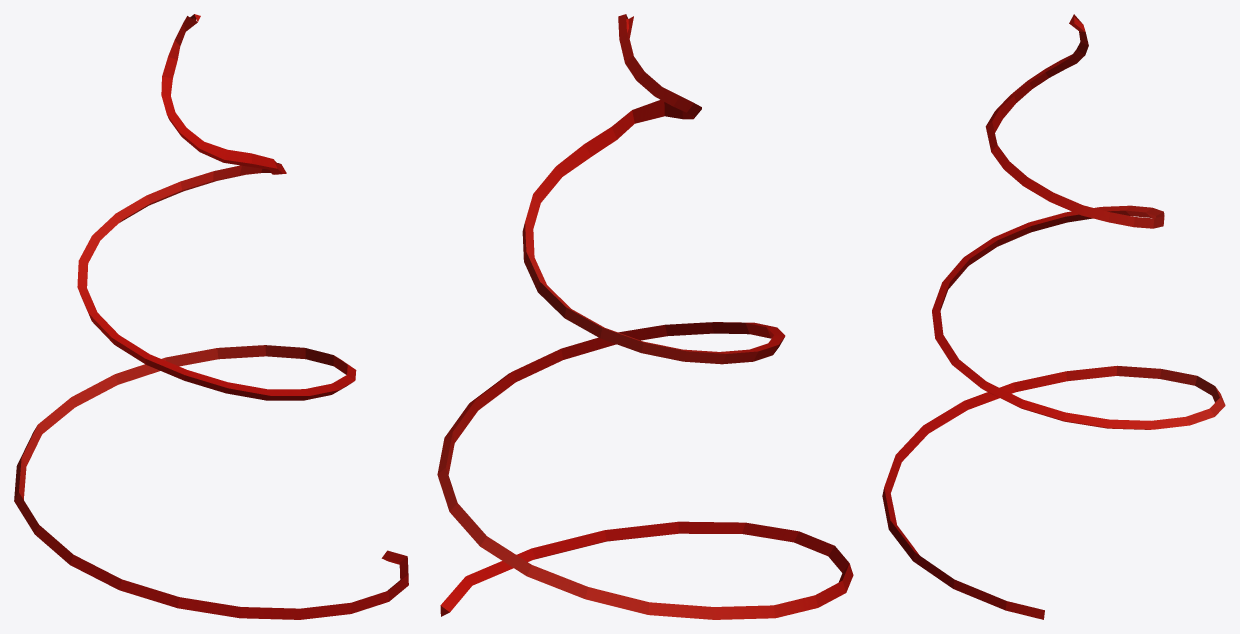
The model's file is XMas-lights.glb.
3 views of the same model, side by side, from view 1: azimuth 30°, elevation 25°; view 2: azimuth 150°, elevation 25°; view 3: azimuth 270°, elevation 25° (orthographic). The views are drawn at different scales.
Parts seen in each view (by area): view 1: Christmas_Tree_Christmas_Tree_0; view 2: Christmas_Tree_Christmas_Tree_0; view 3: Christmas_Tree_Christmas_Tree_0.
Part boxes in pixels (<box>): Christmas_Tree_Christmas_Tree_0: <box>14,14,408,619</box>; Christmas_Tree_Christmas_Tree_0: <box>437,14,853,619</box>; Christmas_Tree_Christmas_Tree_0: <box>882,14,1225,619</box>.
Size of the model in its own units: 196 by 318 by 189.
1 material, 1 textured.
